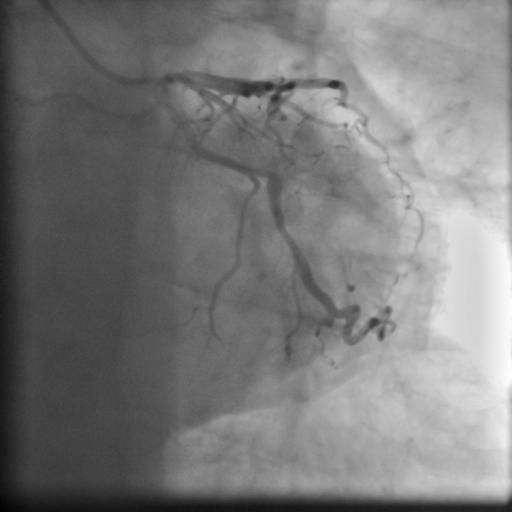Stenosis: (250, 162, 277, 187)
